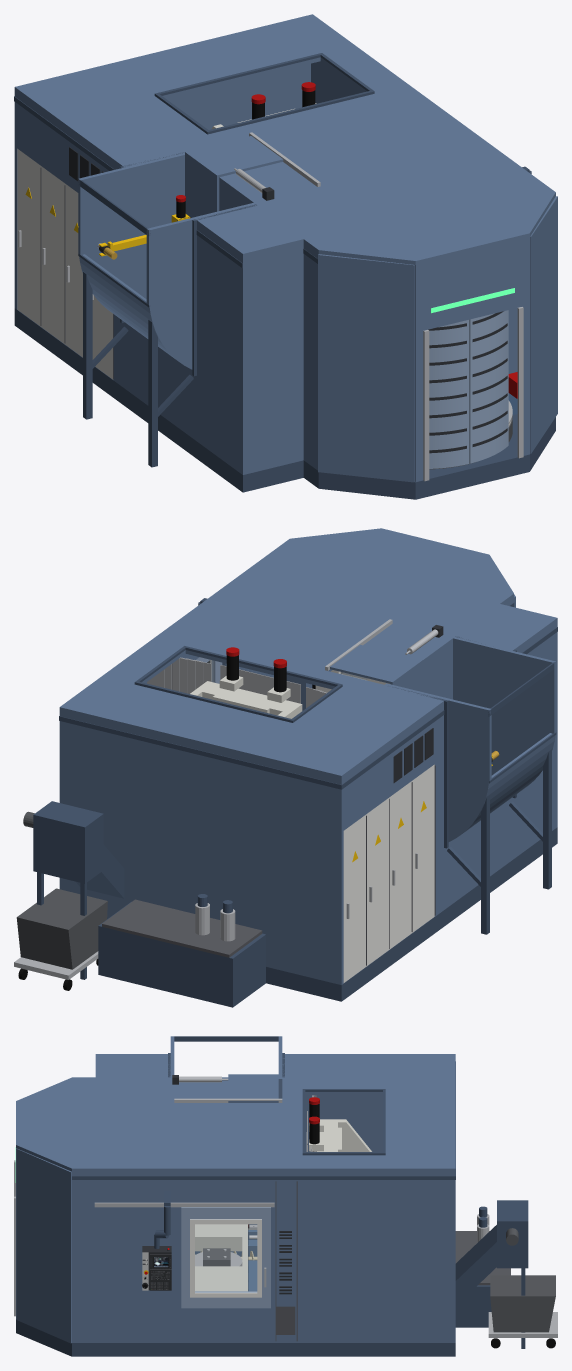
File: hmc_x1200_4ax_blue_right.glb
3 views of the same model, one above another, from view 1: azimuth 30°, elevation 25°; view 2: azimuth 150°, elevation 25°; view 3: azimuth 270°, elevation 25° (orthographic). The views are drawn at different scales.
Parts seen in each view (by area): view 1: enclosure__fms_blue, apc_housing__fms_blue, tc_box__fms_blue, electrical_cabinet__hmc_white, enclosure__fms_blue_dk, apc_housing__fms_blue_dk, apc_door_left__door_blue, apc_door_right__door_blue, tc_box__fms_blue_dk, tc_door__fms_blue, apc_housing__steel, apc_door_left__anthracite (+4 smaller); view 2: enclosure__fms_blue, tc_box__fms_blue, chip_coolant__fms_blue_dk, electrical_cabinet__hmc_white, enclosure__fms_blue_dk, apc_housing__fms_blue, chip_cart__steel_dark, chip_coolant__anthracite_lt, tc_box__fms_blue_dk, tc_door__fms_blue, column__struct_grey, enclosure__anthracite (+6 smaller); view 3: enclosure__fms_blue, apc_housing__fms_blue, enclosure__fms_blue_dk, chip_coolant__fms_blue_dk, operator_door__glass_clear, operator_door__door_blue, chip_cart__steel_dark, table__struct_grey, enclosure__steel, operator_door__hmc_white, column__struct_grey, tc_door__fms_blue (+12 smaller).
Boxes of the visible parts, bbox=[...] form: enclosure__fms_blue: bbox=[14, 14, 540, 474]; apc_housing__fms_blue: bbox=[303, 181, 557, 482]; tc_box__fms_blue: bbox=[78, 152, 255, 369]; electrical_cabinet__hmc_white: bbox=[17, 149, 113, 379]; enclosure__fms_blue_dk: bbox=[14, 53, 374, 492]; apc_housing__fms_blue_dk: bbox=[303, 248, 555, 499]; apc_door_left__door_blue: bbox=[429, 320, 469, 468]; apc_door_right__door_blue: bbox=[469, 310, 508, 463]; tc_box__fms_blue_dk: bbox=[78, 178, 193, 467]; tc_door__fms_blue: bbox=[185, 136, 283, 217]; apc_housing__steel: bbox=[423, 307, 523, 481]; apc_door_left__anthracite: bbox=[428, 323, 466, 453]; enclosure__fms_blue: bbox=[59, 549, 557, 984]; tc_box__fms_blue: bbox=[388, 637, 556, 841]; chip_coolant__fms_blue_dk: bbox=[33, 801, 265, 1007]; electrical_cabinet__hmc_white: bbox=[343, 764, 434, 982]; enclosure__fms_blue_dk: bbox=[59, 627, 557, 1001]; apc_housing__fms_blue: bbox=[276, 528, 515, 688]; chip_cart__steel_dark: bbox=[16, 888, 107, 969]; chip_coolant__anthracite_lt: bbox=[102, 899, 262, 957]; tc_box__fms_blue_dk: bbox=[447, 662, 556, 934]; tc_door__fms_blue: bbox=[330, 644, 422, 691]; column__struct_grey: bbox=[190, 676, 302, 718]; enclosure__anthracite: bbox=[393, 625, 443, 782]; enclosure__fms_blue: bbox=[95, 1054, 455, 1342]; apc_housing__fms_blue: bbox=[16, 1077, 95, 1343]; enclosure__fms_blue_dk: bbox=[95, 1053, 455, 1356]; chip_coolant__fms_blue_dk: bbox=[455, 1200, 528, 1348]; operator_door__glass_clear: bbox=[195, 1225, 256, 1291]; operator_door__door_blue: bbox=[181, 1207, 270, 1308]; chip_cart__steel_dark: bbox=[490, 1275, 555, 1332]; table__struct_grey: bbox=[195, 1224, 247, 1291]; enclosure__steel: bbox=[94, 1076, 282, 1207]; operator_door__hmc_white: bbox=[190, 1219, 261, 1297]; column__struct_grey: bbox=[309, 1119, 371, 1151]; tc_door__fms_blue: bbox=[228, 1074, 278, 1102].
Bounding box in the file's own units: 5.08 × 3.22 × 7.86.
Materials: 23 (2 with a texture image).
